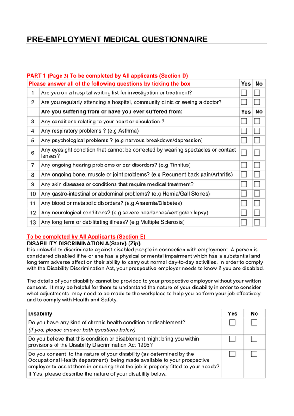checkbox: (225, 350, 239, 360), (227, 318, 238, 328), (253, 148, 263, 158), (239, 216, 249, 226), (239, 208, 250, 217), (248, 350, 259, 359), (226, 335, 238, 343), (240, 87, 249, 97), (252, 116, 262, 125), (239, 126, 249, 135), (240, 147, 249, 157), (240, 169, 249, 179), (252, 170, 262, 179), (250, 318, 259, 328), (239, 180, 250, 188), (240, 199, 251, 207), (253, 88, 262, 97), (249, 335, 258, 344), (253, 161, 263, 169), (251, 180, 261, 188), (239, 189, 249, 197), (252, 190, 262, 198), (252, 199, 262, 207), (252, 218, 262, 226), (253, 98, 262, 106), (240, 97, 248, 106), (253, 136, 262, 144), (240, 161, 249, 169), (240, 117, 248, 125), (253, 127, 261, 135), (240, 136, 248, 144), (253, 208, 261, 216)
